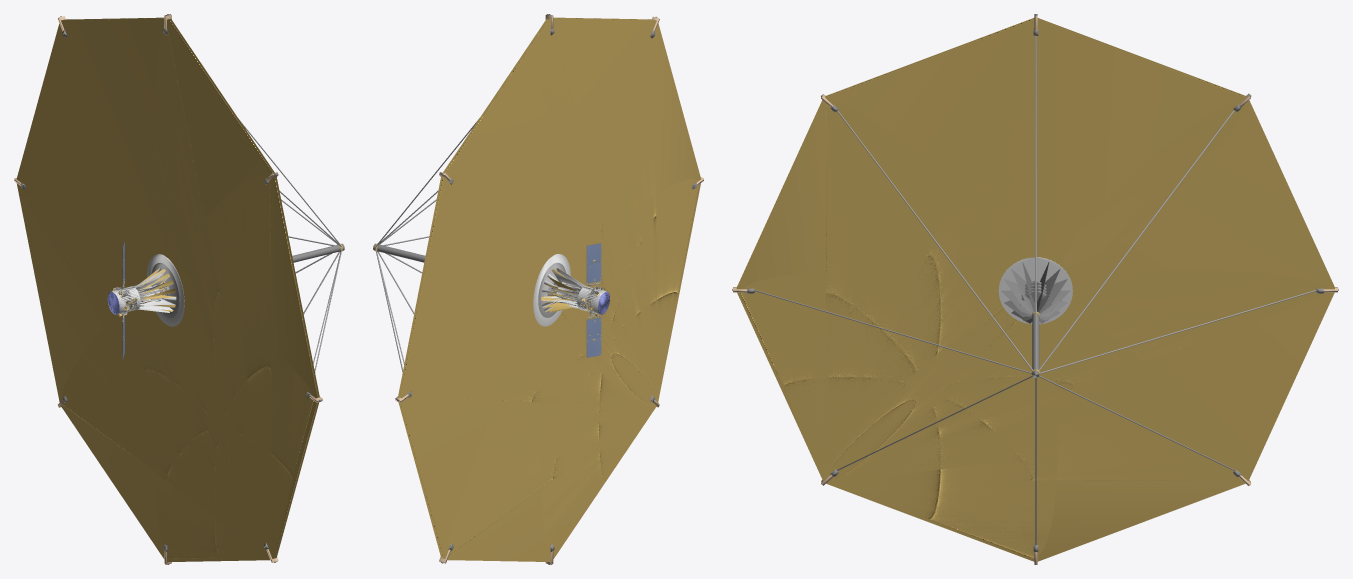
The model's file is solar-panel.glb.
3 views of the same model, side by side, from view 1: azimuth 30°, elevation 25°; view 2: azimuth 150°, elevation 25°; view 3: azimuth 270°, elevation 25° (orthographic).
Parts seen in each view (by area): view 1: BrowserInputFile5db44c85-29f6-45b8-b527-3a563e737ef1?ext=lwo; view 2: BrowserInputFile5db44c85-29f6-45b8-b527-3a563e737ef1?ext=lwo; view 3: BrowserInputFile5db44c85-29f6-45b8-b527-3a563e737ef1?ext=lwo.
Boxes of the visible parts, x1,y1,x2,y2 form: BrowserInputFile5db44c85-29f6-45b8-b527-3a563e737ef1?ext=lwo: [14, 14, 344, 564]; BrowserInputFile5db44c85-29f6-45b8-b527-3a563e737ef1?ext=lwo: [373, 14, 703, 564]; BrowserInputFile5db44c85-29f6-45b8-b527-3a563e737ef1?ext=lwo: [732, 14, 1338, 564].
Size of the model in its own units: 0.4362 by 1 by 1.
Materials: 1 (1 with a texture image).
